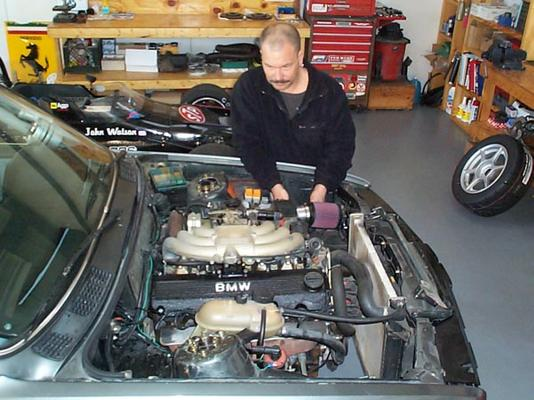person: (226, 20, 361, 205)
